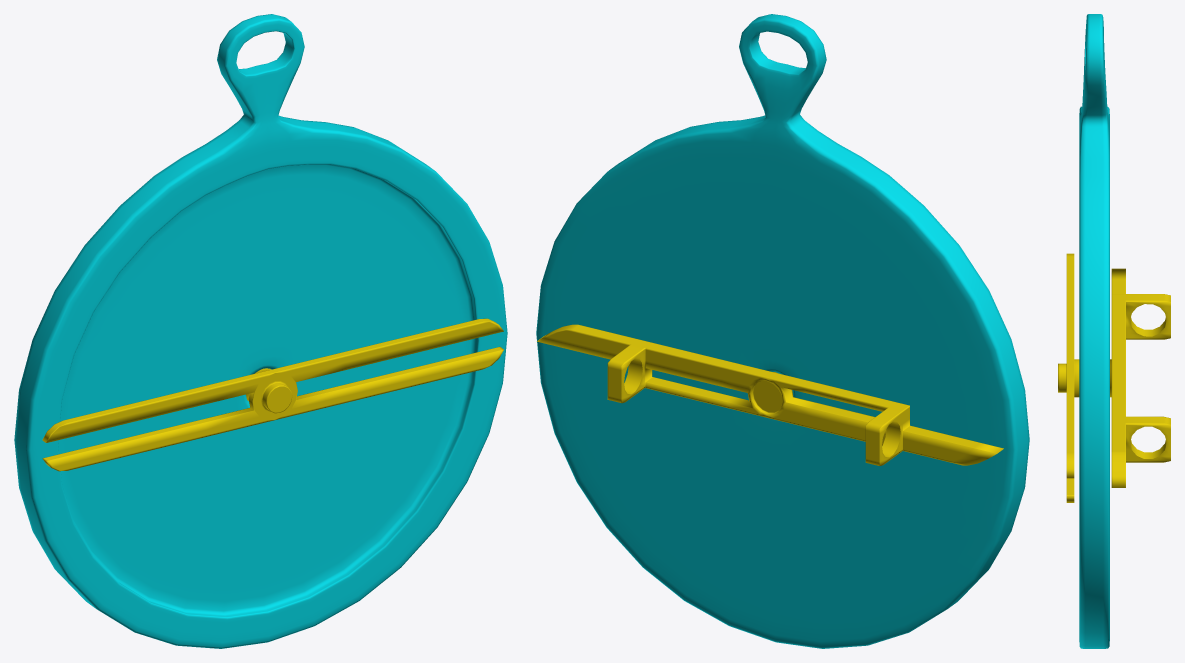
File: Refined Astrolabe.fbx
3 views of the same model, side by side, from view 1: azimuth 30°, elevation 25°; view 2: azimuth 150°, elevation 25°; view 3: azimuth 270°, elevation 25° (orthographic). The views are drawn at different scales.
Visible parts, largest first — view 1: Astrolabe Body, Astrolabe Pointers; view 2: Astrolabe Body, Astrolabe Pointers; view 3: Astrolabe Body, Astrolabe Pointers.
Part boxes in pixels (x1,y1,x2,y2): Astrolabe Body: (14,14,507,648); Astrolabe Pointers: (42,318,503,471); Astrolabe Body: (536,14,1029,648); Astrolabe Pointers: (537,324,1003,465); Astrolabe Body: (1079,14,1109,648); Astrolabe Pointers: (1058,253,1170,502).
Size of the model in its own units: 0.5068 by 0.6248 by 0.1056.
